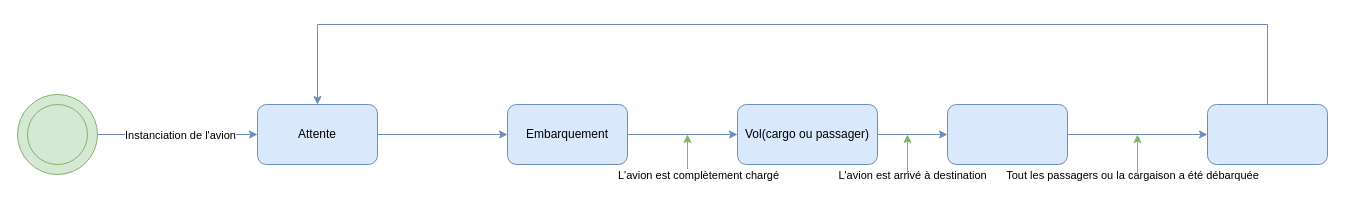
The diagram is 1345 pixels wide and 200 high, and some of its shapes have lost their labels. The shapes that lost their labels are listed below. From the top down, each one's box as (x1, y1, x2, y2) in pixels, then its label:
(946, 104, 1068, 164): Débarquement
(1206, 104, 1328, 164): Maintenance
